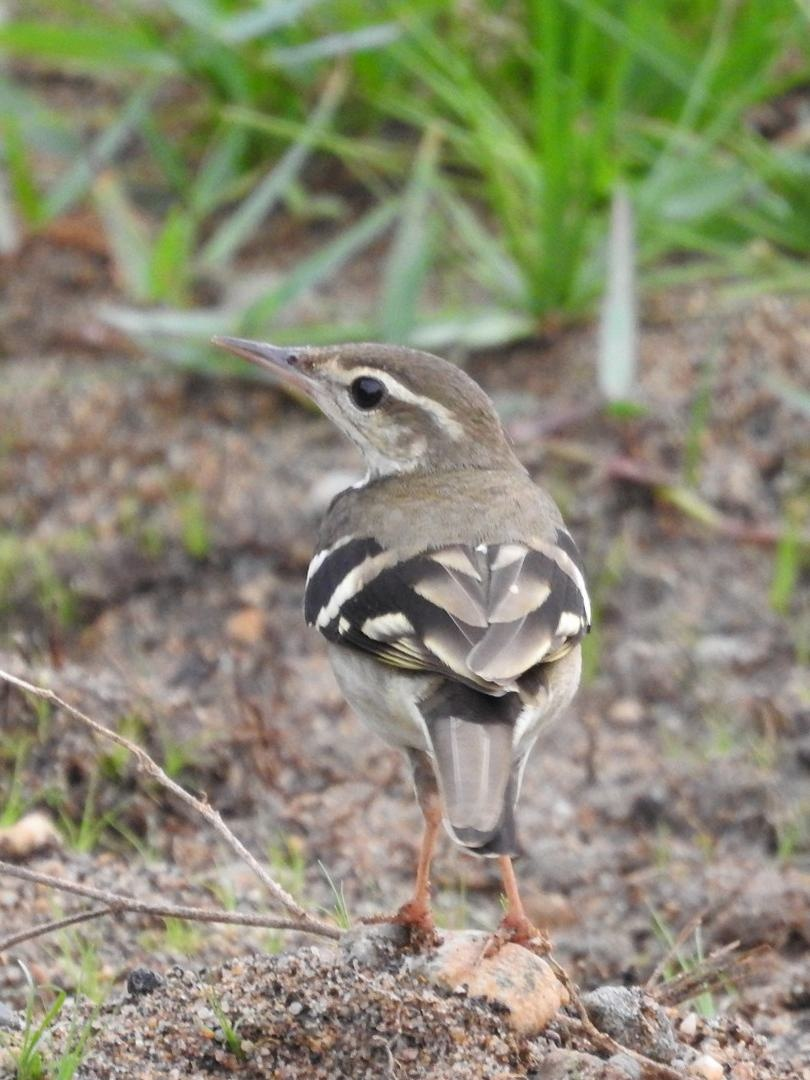wagtail: (209, 292, 640, 934)
